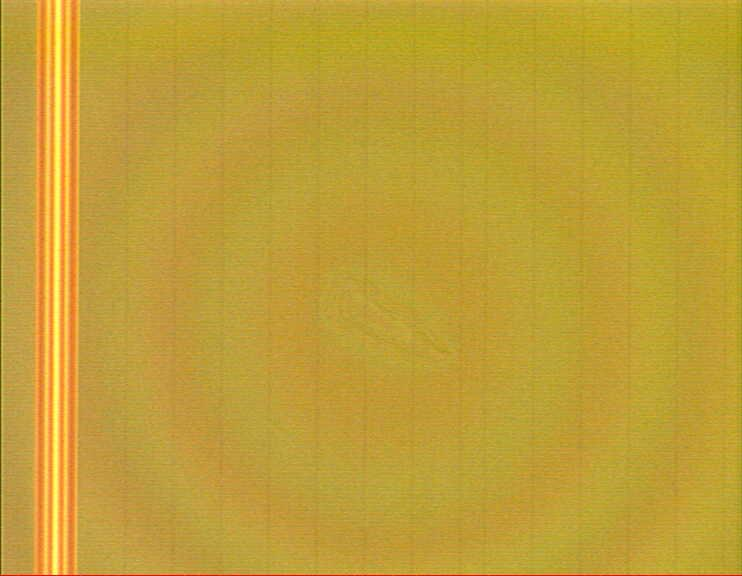PIQ PARTICLE: (330, 270, 451, 366)
